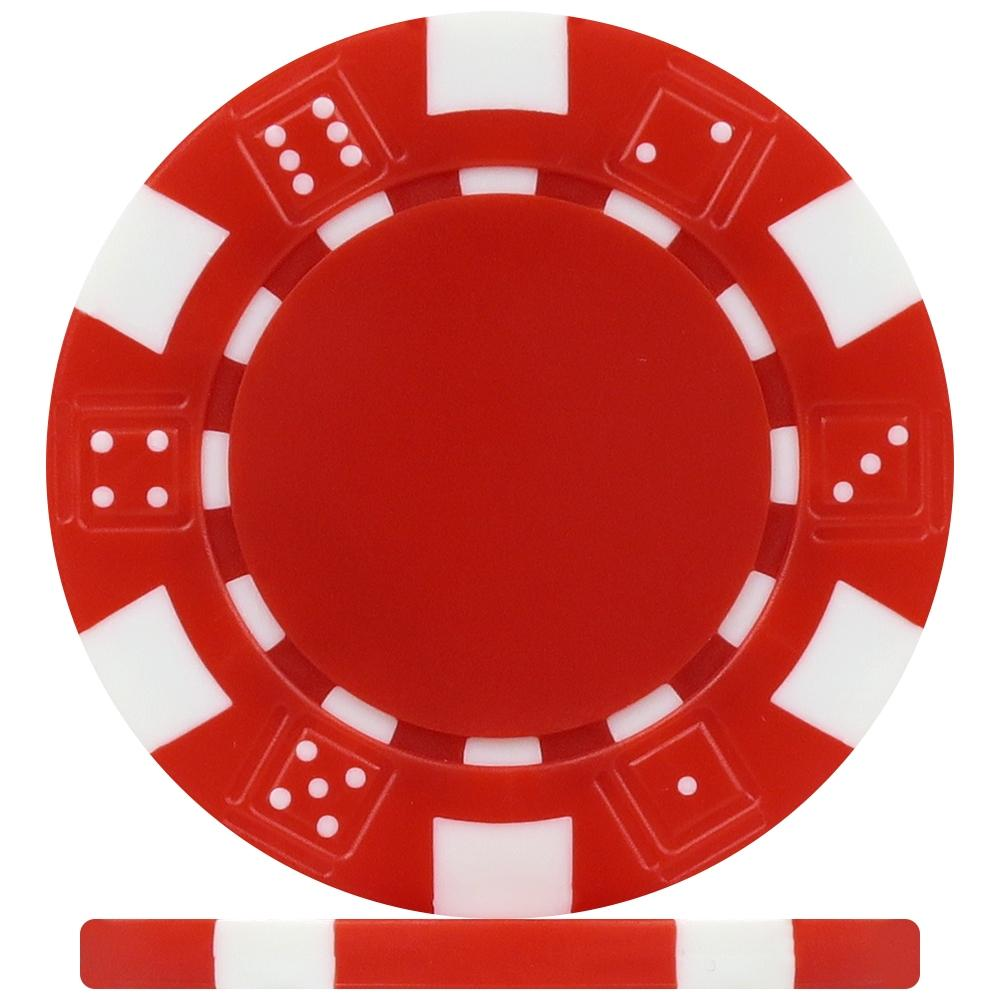chip-red: (47, 12, 953, 988)
